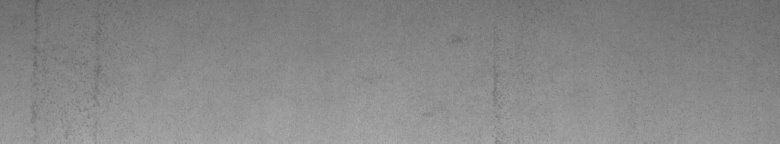ib: (32, 4, 101, 119)
